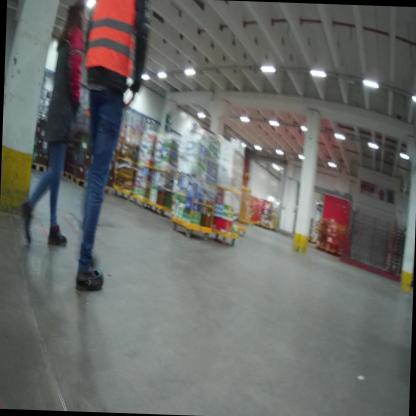pallet: (66, 172, 92, 189), (31, 161, 47, 171), (100, 183, 113, 195), (61, 167, 69, 180)
